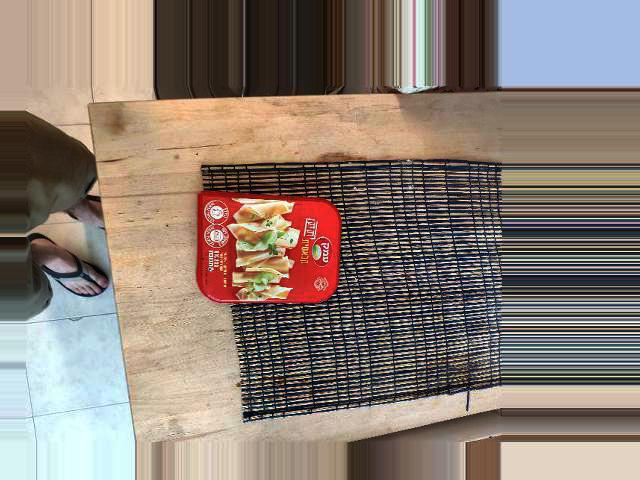cheese: (250, 225, 378, 408)
